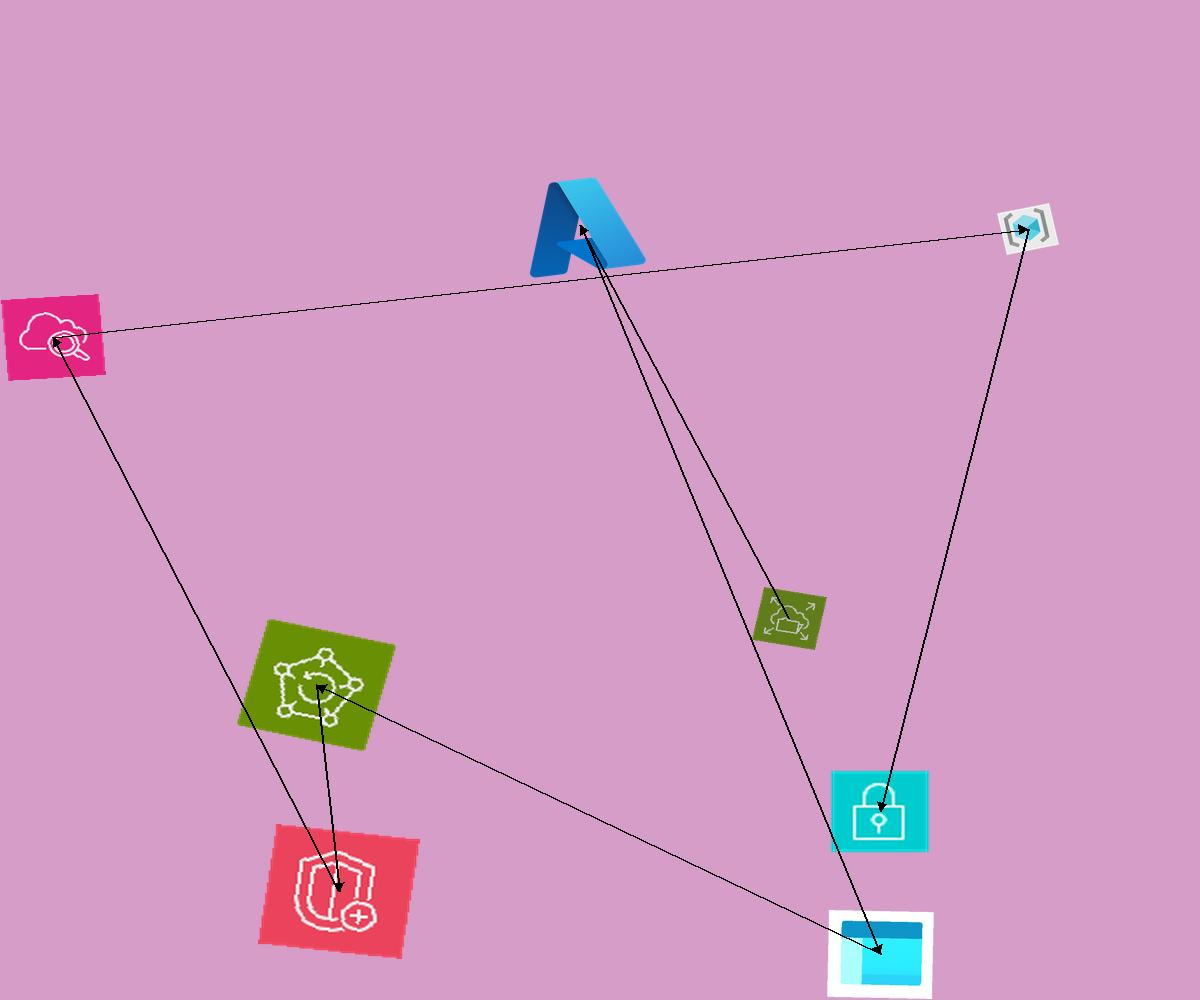AWS-Backup: (236, 618, 397, 752)
AWS-CloudWatch: (1, 294, 106, 381)
AWS-EFS: (752, 587, 827, 650)
AWS-Private-subnet: (829, 769, 931, 854)
AWS-Shield: (258, 824, 420, 959)
Azure_management-portal: (827, 910, 934, 999)
Azure_resource_group: (997, 203, 1059, 255)
Azure_services: (508, 165, 653, 286)
